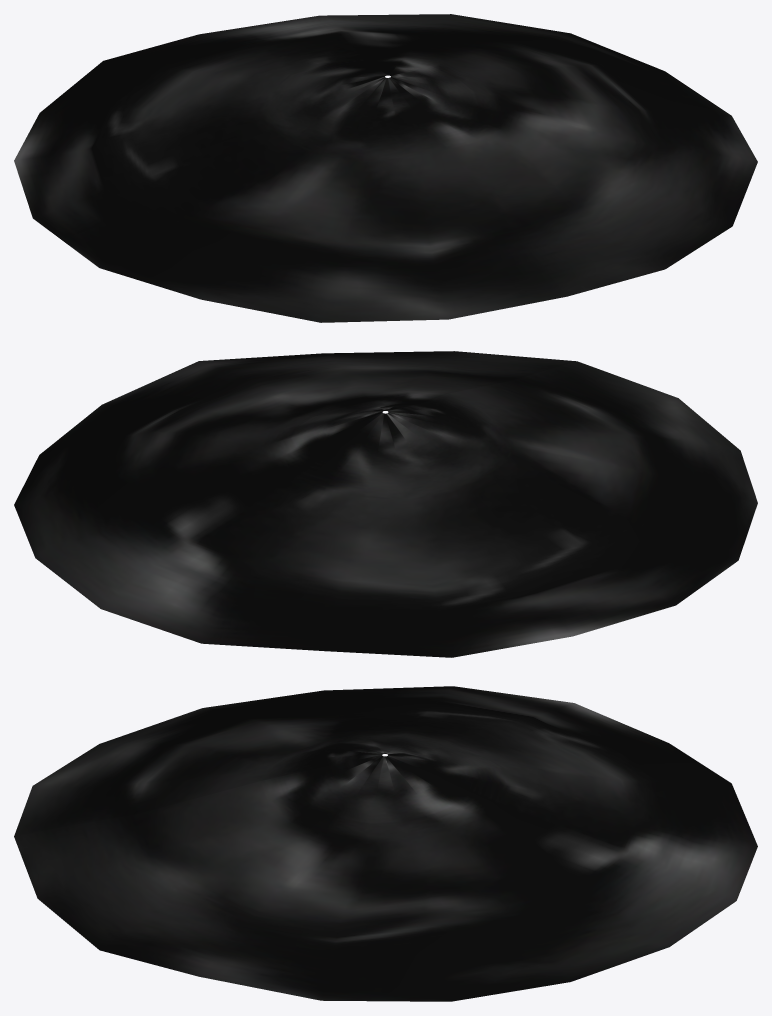
File: xuneng_01.FBX
3 renders of one model, top to bottom at view 1: azimuth 30°, elevation 25°; view 2: azimuth 150°, elevation 25°; view 3: azimuth 270°, elevation 25°, orthographic.
Visible parts, largest first — view 1: xuneng; view 2: xuneng; view 3: xuneng.
Boxes of the visible parts, <box> form: xuneng: <box>14,14,757,322</box>; xuneng: <box>14,351,757,657</box>; xuneng: <box>14,686,757,1001</box>.
Size of the model in its own units: 3468 by 498 by 3508.
1 material, 1 textured.
